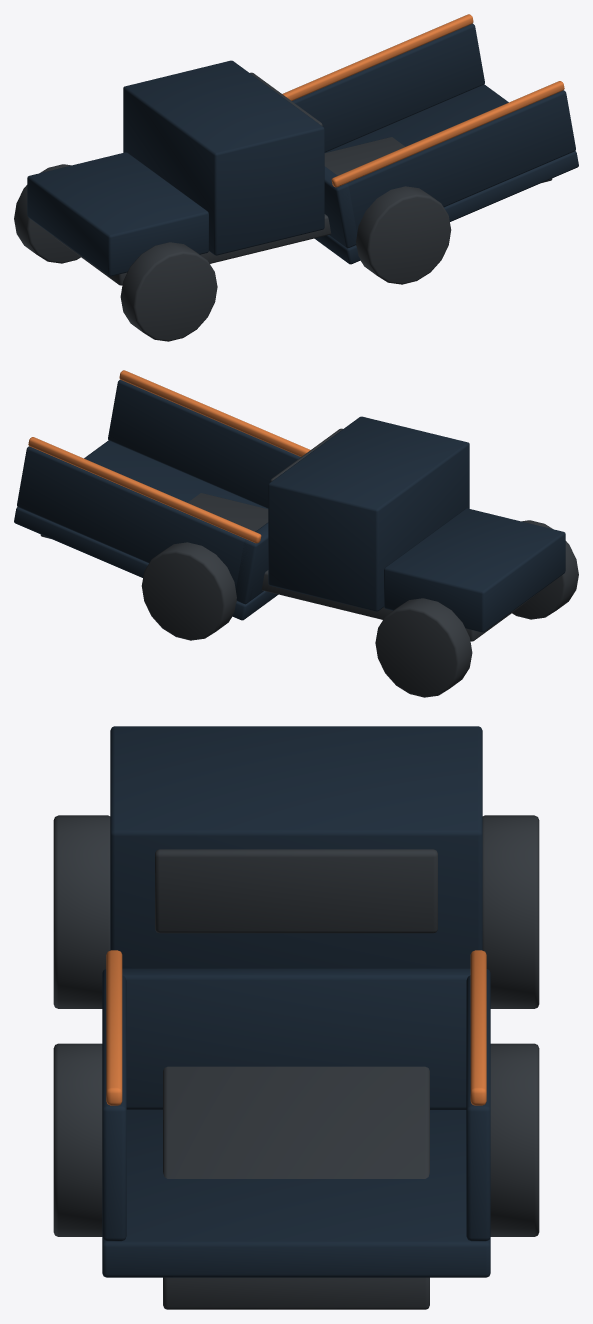
3 renders of one model, top to bottom at view 1: azimuth 30°, elevation 25°; view 2: azimuth 150°, elevation 25°; view 3: azimuth 270°, elevation 25°, orthographic. The views are drawn at different scales.
Visible parts, largest first — view 1: HerosTruckMark; view 2: HerosTruckMark; view 3: HerosTruckMark.
Part boxes in pixels (left/top/right/bottom): HerosTruckMark: left=14, top=14, right=578, bottom=341; HerosTruckMark: left=14, top=370, right=578, bottom=697; HerosTruckMark: left=53, top=726, right=539, bottom=1309.
Size of the model in its own units: 2.97 by 1 by 1.35.
